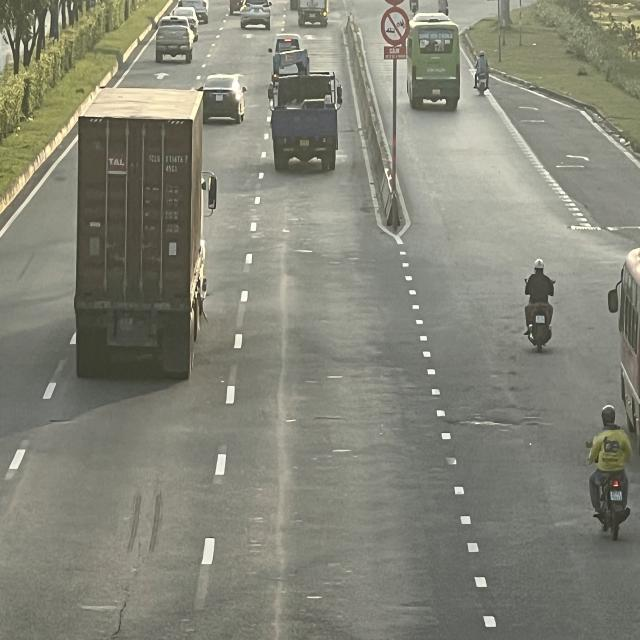car: (200, 72, 246, 122), (155, 17, 197, 63), (242, 0, 274, 28)
coach: (407, 14, 461, 107)
container: (73, 91, 213, 383)
truck: (268, 49, 340, 167)
